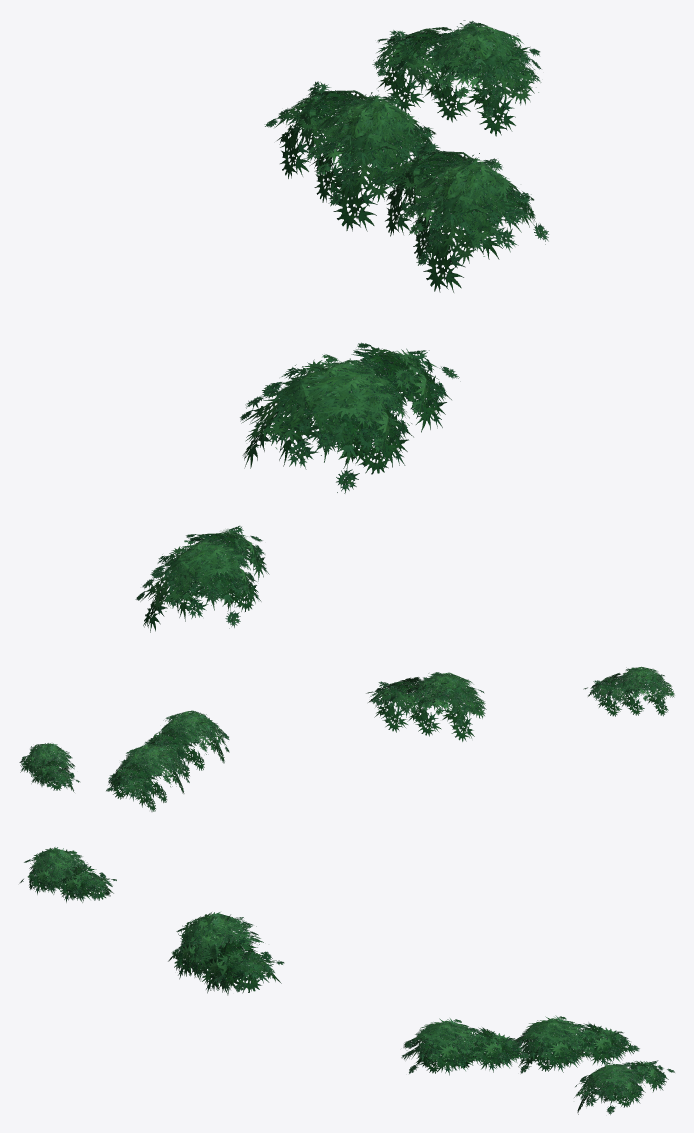
Rendered from Area_11_35.fbx.
3 renders of one model, top to bottom at view 1: azimuth 30°, elevation 25°; view 2: azimuth 150°, elevation 25°; view 3: azimuth 270°, elevation 25°, orthographic. The views are drawn at different scales.
Visible parts, largest first — view 1: Area_11_35; view 2: Area_11_35; view 3: Area_11_35.
Part boxes in pixels (bbox=[...]): Area_11_35: bbox=[135, 20, 548, 632]; Area_11_35: bbox=[19, 666, 674, 811]; Area_11_35: bbox=[19, 847, 674, 1114].
Size of the model in its own units: 3946 by 593 by 4341.
